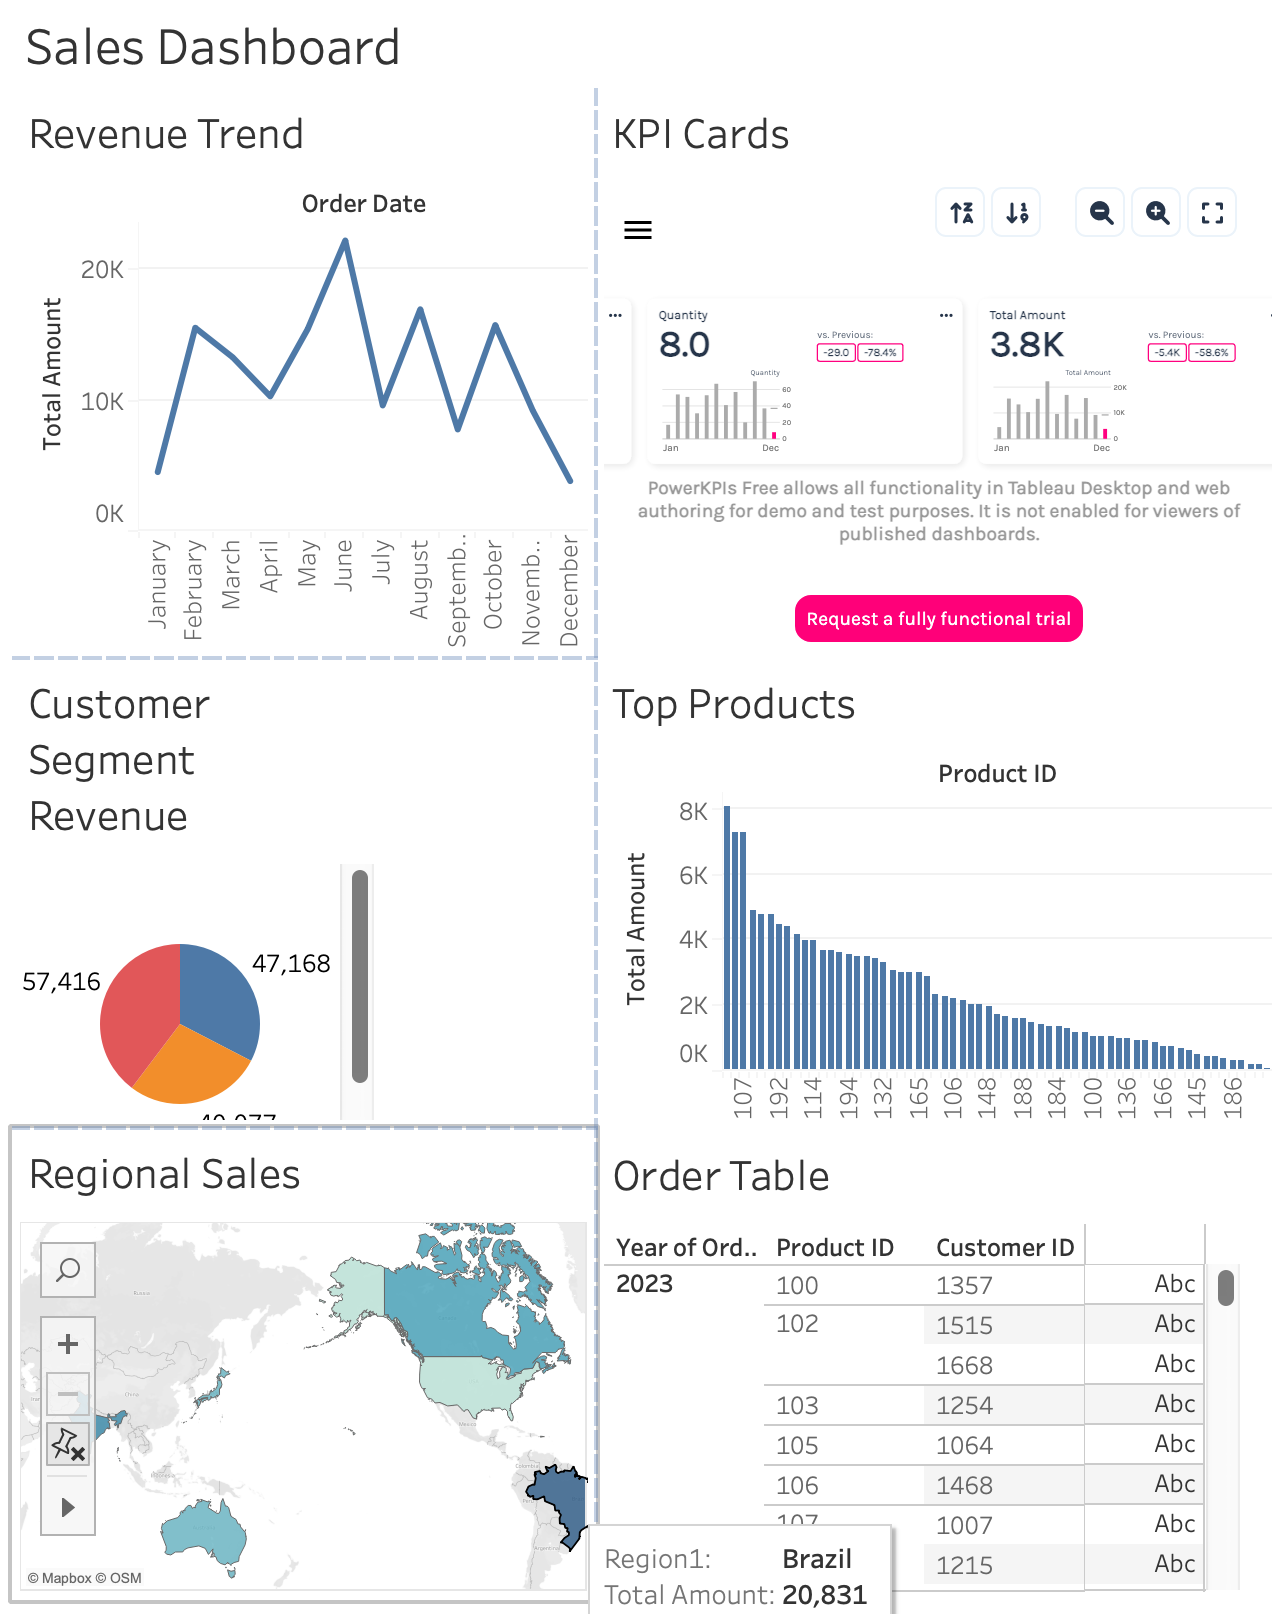

The page's visual inventory and layout, read from the dashboard file:
{"tool":"tableau","page":{"name":"Dashboard 1","canvas":[1000,1000],"units":"permille","ordinal":0},"visuals":[{"type":"title","box":[12.3,11.2,975.4,58.8]},{"type":"worksheet","title":"Sheet 1","mark":"Line","rows":["TotalAmount"],"cols":["OrderDate"],"box":[12.3,70,449.2,346.2]},{"type":"worksheet","title":"Sheet 7","box":[461.5,70,526.1,346.2]},{"type":"worksheet","title":"Sheet 3","mark":"Pie","box":[12.3,416.2,449.2,286.3]},{"type":"worksheet","title":"Sheet 2","mark":"Automatic","rows":["TotalAmount"],"cols":["ProductID"],"box":[461.5,416.2,526.1,286.9]},{"type":"worksheet","title":"Sheet 6","mark":"Automatic","box":[12.3,702.5,449.2,286.3]},{"type":"worksheet","title":"Sheet 5","mark":"Automatic","rows":["OrderDate","ProductID","CustomerID"],"box":[461.5,703.1,526.1,285.7]}]}

Visuals, with their boxes on the dashboard's canvas, which has no fixed pixel size, in thousandths of its width and height (x1, y1, x2, y2). These are canvas units, not pixel positions in the 1280x1614 screenshot, which may show the page scaled, cropped or inside an application window:
title: {"x1": 12, "y1": 11, "x2": 988, "y2": 70}
"Sheet 1" worksheet (Line marks): {"x1": 12, "y1": 70, "x2": 462, "y2": 416}
"Sheet 7" worksheet: {"x1": 462, "y1": 70, "x2": 988, "y2": 416}
"Sheet 3" worksheet (Pie marks): {"x1": 12, "y1": 416, "x2": 462, "y2": 702}
"Sheet 2" worksheet: {"x1": 462, "y1": 416, "x2": 988, "y2": 703}
"Sheet 6" worksheet: {"x1": 12, "y1": 702, "x2": 462, "y2": 989}
"Sheet 5" worksheet: {"x1": 462, "y1": 703, "x2": 988, "y2": 989}
